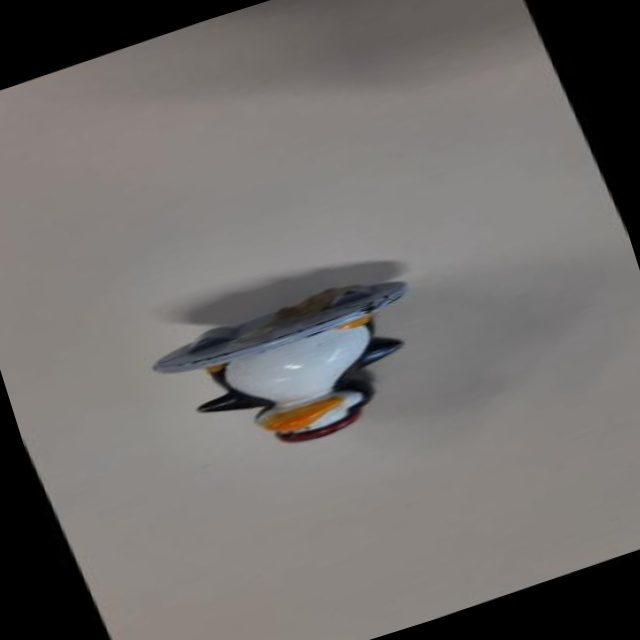Penguin: (156, 264, 449, 483)
